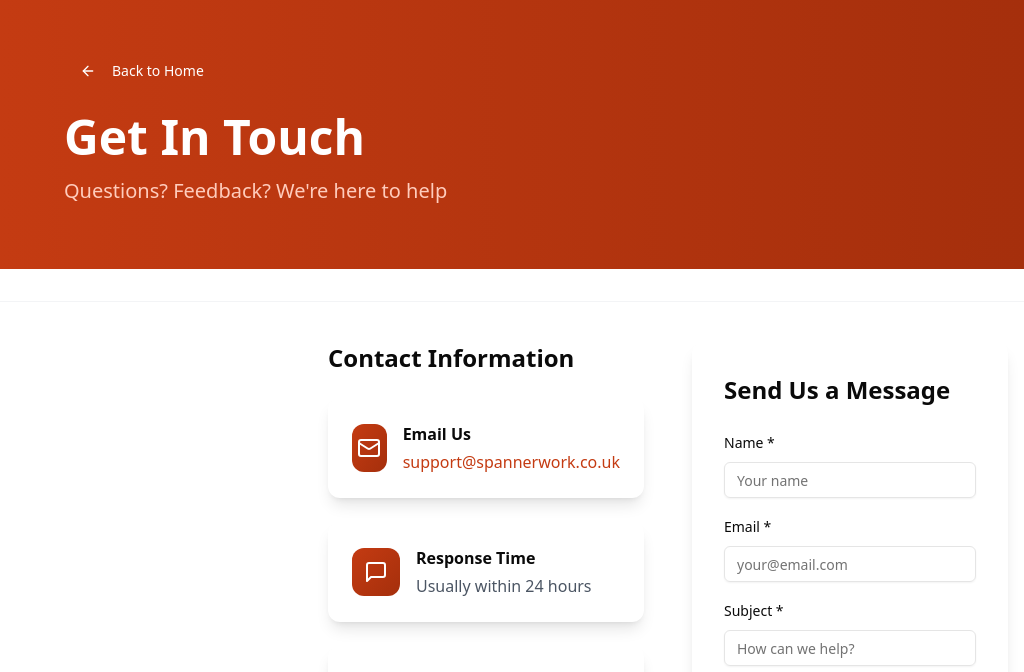
Contact Page › Form submission › shows error message when submission fails
Type "Test" into the field labelled "Name *" at [850, 480], box top-left (724, 462), bottom-right (976, 498)
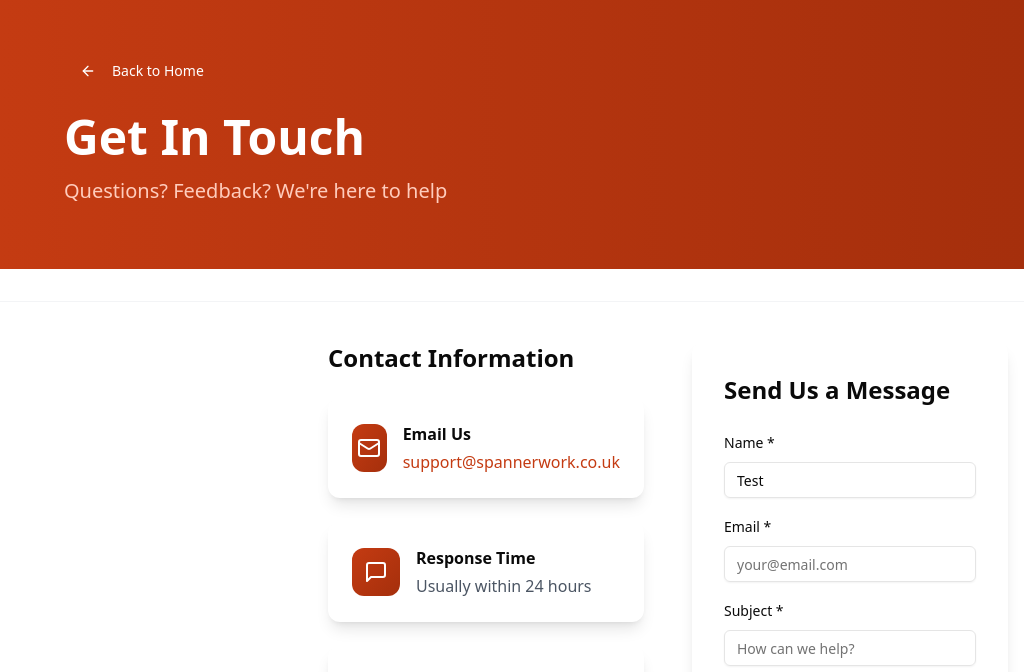
Type "test@test.com" into the field labelled "Email *" at [850, 564], box top-left (724, 546), bottom-right (976, 582)
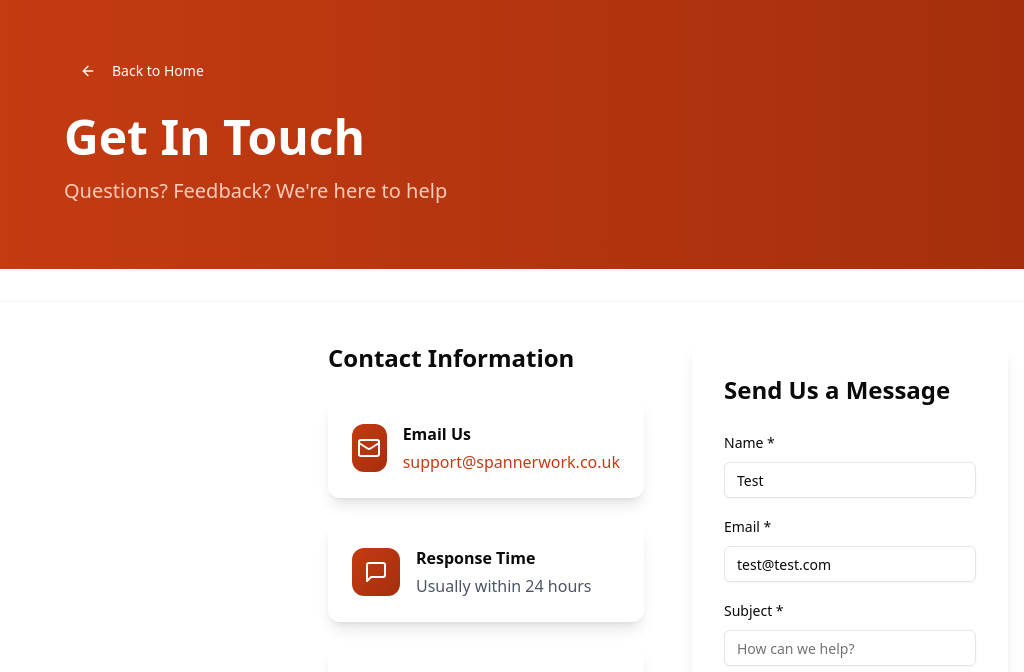
Type "Subject" into the field labelled "Subject *" at [850, 648], box top-left (724, 630), bottom-right (976, 666)
(page scrolled)
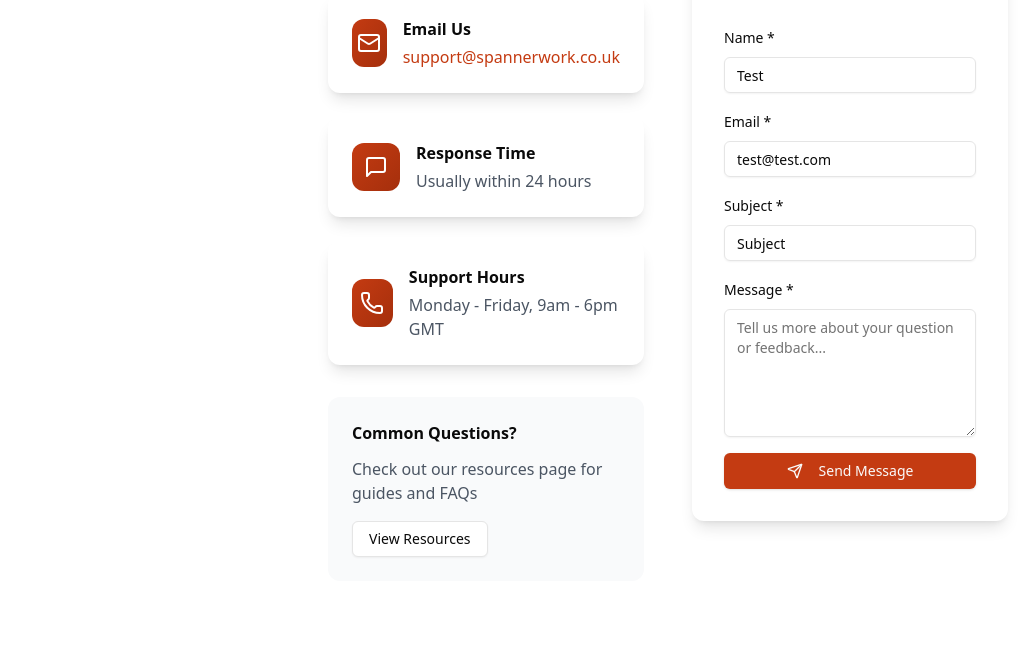
Type "Message" into the text box labelled "Message *" at [850, 373], box top-left (724, 309), bottom-right (976, 437)
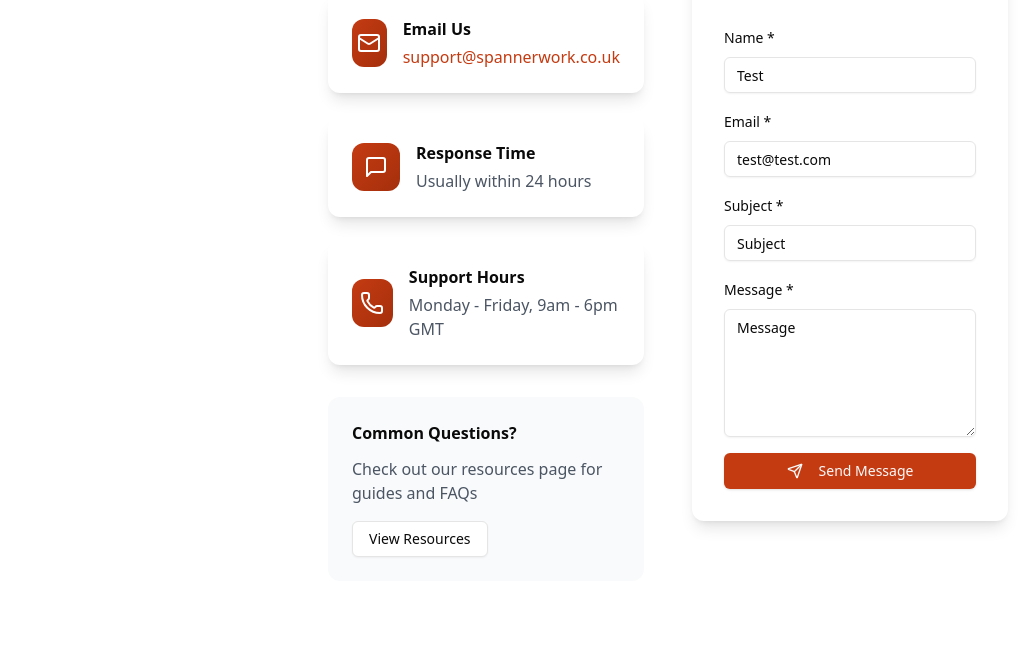
Submit the form "Name * Email * Subject * Message * Send Message", box top-left (724, 25), bottom-right (976, 489)
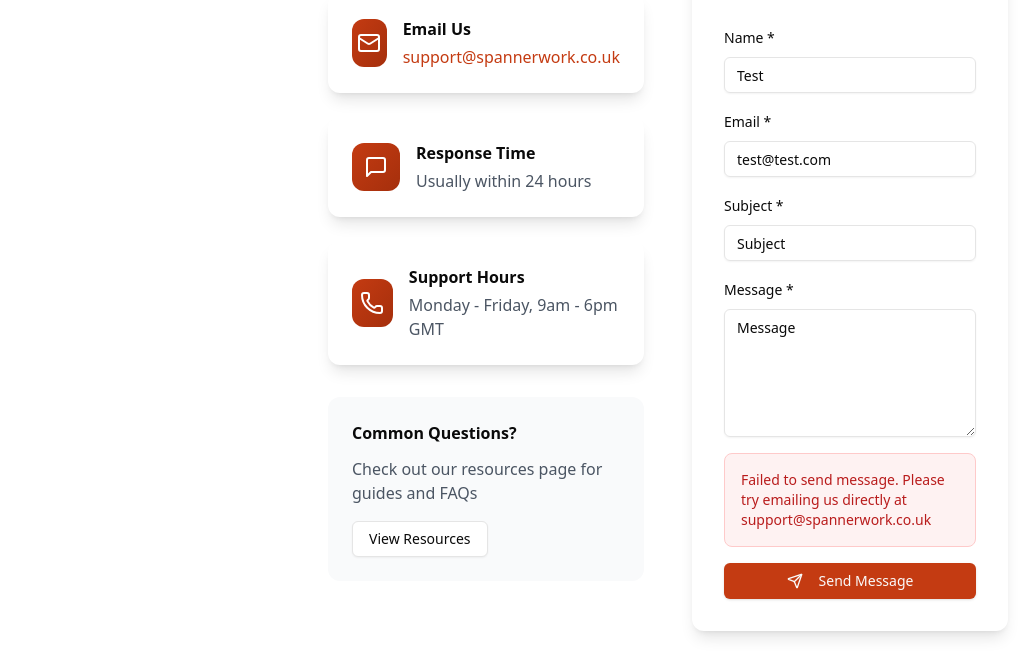
Check: the text "Failed to send message" is shown, box top-left (741, 470), bottom-right (945, 529)
